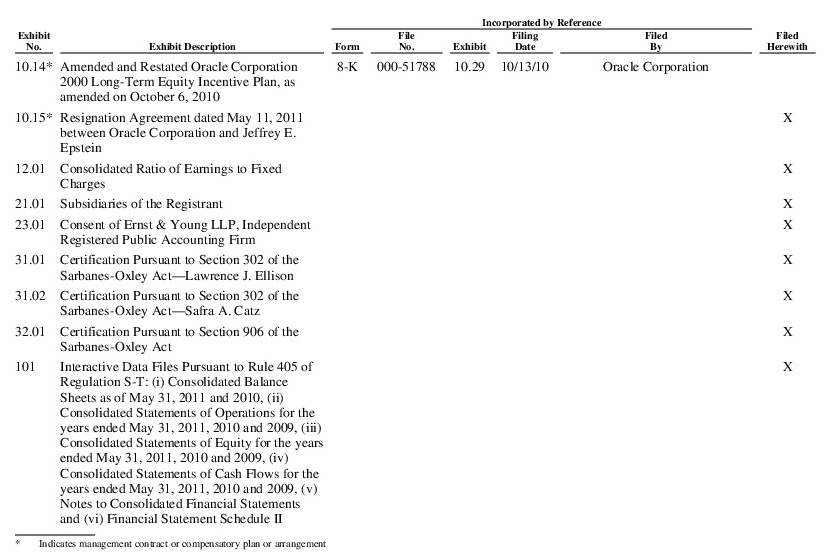table: (0, 0, 838, 556)
